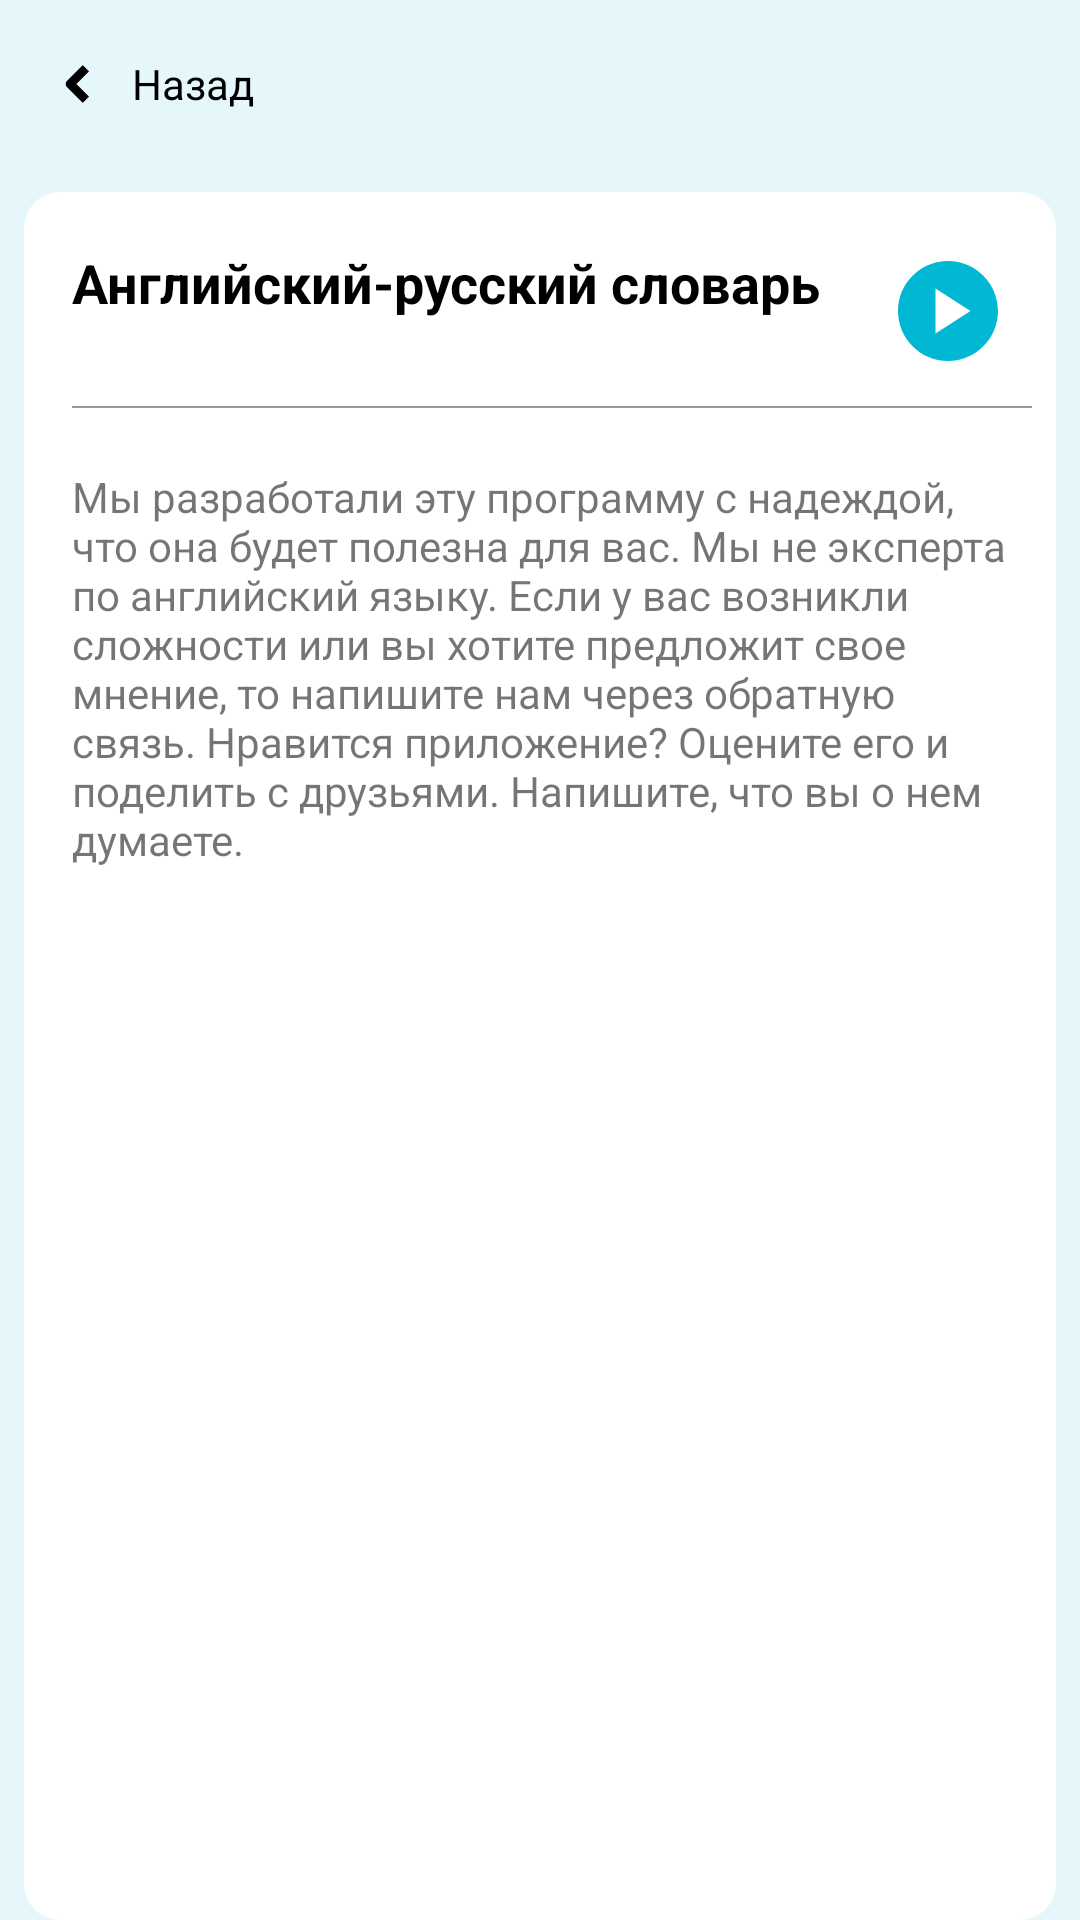

Named icons in this screenshot (1080 × 1920) and their centers, (x,y):
left: (77,84)
play circle: (948,311)
